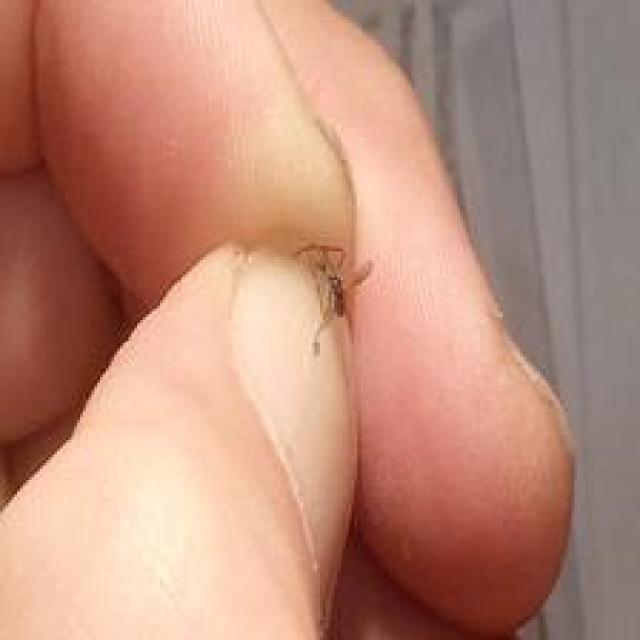Aedes albopictus: (293, 241, 373, 356)
